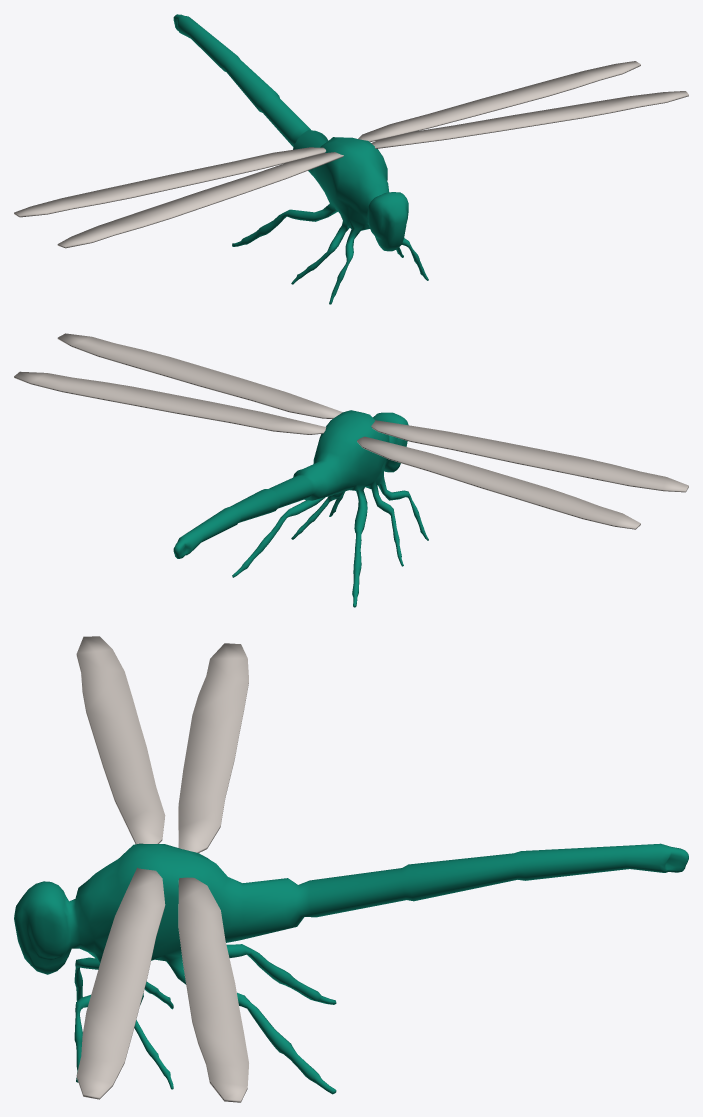
File: Dragonfly.obj
3 renders of one model, top to bottom at view 1: azimuth 30°, elevation 25°; view 2: azimuth 150°, elevation 25°; view 3: azimuth 270°, elevation 25°, orthographic. The views are drawn at different scales.
Visible parts, largest first — view 1: dfly_wing, dfly_body; view 2: dfly_wing, dfly_body; view 3: dfly_wing, dfly_body.
Part boxes in pixels (x1,y1,x2,y2): dfly_wing: [14, 61, 688, 248]; dfly_body: [173, 14, 428, 304]; dfly_wing: [14, 333, 688, 529]; dfly_body: [173, 410, 428, 607]; dfly_wing: [76, 636, 248, 1102]; dfly_body: [14, 843, 688, 1094].
Bounding box in the file's own units: 1.5 × 0.3106 × 0.9278.
